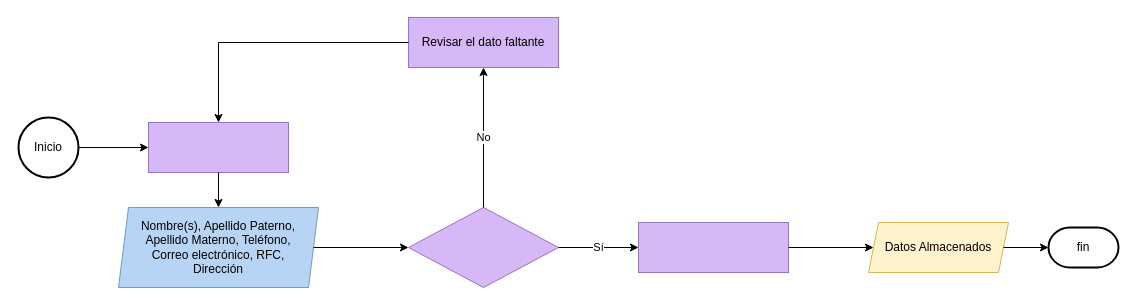
This 1136x305 diagram has some shape labels left out. Here are the shapes that lost their labels. From the top down, the box of each, then its label:
(148, 122, 288, 172): Formulario de Registro
(408, 206, 558, 288): ¿Formulario completo?
(638, 222, 788, 272): Modal con contraseña creada
